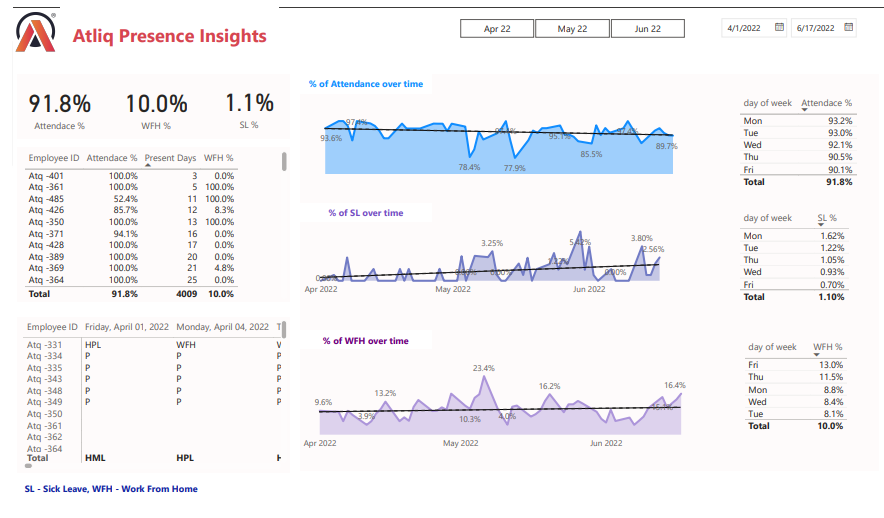

The page's visual inventory and layout, read from the dashboard file:
{"tool":"powerbi","page":{"name":"Presence Insights","canvas":[1280,720],"ordinal":0},"visuals":[{"type":"textbox","box":[7.8,205.6,399.9,225.5],"z":0},{"type":"textbox","box":[7.8,453.3,399.8,227.6],"z":1000},{"type":"textbox","box":[422.3,97.9,848.1,582.3],"z":2000},{"type":"textbox","box":[7.8,98,399.9,95.4],"z":3000},{"type":"tableEx","fields":{"Values":["Final Data.Employee ID","Measures (2).Attendace %","Measures (2).Present Days","Measures (2).WFH %"]},"box":[12.6,205.2,394.9,225.7],"z":4000},{"type":"slicer","fields":{"Values":["Final Data.Date"]},"box":[1027.3,5.2,252.7,46.3],"z":5000},{"type":"slicer","fields":{"Values":["Final Data.MMM YY"]},"box":[630.4,10.5,379.5,35.8],"z":6000},{"type":"areaChart","fields":{"Category":["Final Data.MMM YY","Final Data.Date"],"Y":["Measures (2).WFH %"]},"box":[420.7,502.3,589,153.5],"z":7000},{"type":"areaChart","fields":{"Category":["Final Data.WeekNo","Final Data.Date"],"Y":["Measures (2).Attendace %"]},"box":[444.1,144.9,540.4,103.2],"z":8000},{"type":"card","fields":{"Values":["Measures (2).Attendace %"]},"box":[7.8,98,124,96.3],"z":9000},{"type":"card","fields":{"Values":["Measures (2).WFH %"]},"box":[141.4,98,138.8,96.3],"z":10000},{"type":"areaChart","fields":{"Category":["Final Data.MMM YY","Final Data.Date"],"Y":["Measures (2).SL %"]},"box":[422.5,307.1,556,124],"z":11000},{"type":"image","box":[0,0,70,71],"z":12000},{"type":"card","fields":{"Values":["Measures (2).SL %"]},"box":[286.3,97.2,121.4,96.3],"z":13000},{"type":"textbox","box":[70.3,0,320.1,71.1],"z":14000},{"type":"textbox","box":[422.4,98.2,192.5,27.5],"z":15000},{"type":"textbox","box":[422.5,286.3,192.6,26.9],"z":16000},{"type":"textbox","box":[422.1,473.7,192.6,27.2],"z":17000},{"type":"pivotTable","fields":{"Rows":["Final Data.Employee ID"],"Columns":["Final Data.Date"],"Values":["Min(Final Data.Value)"]},"box":[11.7,453.3,395.9,227.6],"z":18000},{"type":"textbox","box":[13.6,691.6,289.8,28.2],"z":19000},{"type":"tableEx","fields":{"Values":["Final Data.day of week","Measures (2).Attendace %"]},"box":[1060.9,125.8,209.9,145.7],"z":20000},{"type":"tableEx","fields":{"Values":["Final Data.day of week","Measures (2).SL %"]},"box":[1060.9,294.1,191.7,167.4],"z":21000},{"type":"tableEx","fields":{"Values":["Final Data.day of week","Measures (2).WFH %"]},"box":[1068.7,483.2,170,167.4],"z":22000}]}

Visuals, with their boxes on the page's 1280x720 design canvas (x1, y1, x2, y2). These are canvas units, not pixel positions in the 884x518 screenshot, which may show the page scaled, cropped or inside an application window:
textbox: <region>8, 206, 408, 431</region>
textbox: <region>8, 453, 408, 681</region>
textbox: <region>422, 98, 1270, 680</region>
textbox: <region>8, 98, 408, 193</region>
tableEx - Final Data.Employee ID x Measures (2).Attendace %: <region>13, 205, 408, 431</region>
slicer - Final Data.Date: <region>1027, 5, 1280, 52</region>
slicer - Final Data.MMM YY: <region>630, 10, 1010, 46</region>
areaChart - Final Data.MMM YY x Final Data.Date: <region>421, 502, 1010, 656</region>
areaChart - Final Data.WeekNo x Final Data.Date: <region>444, 145, 984, 248</region>
card - Measures (2).Attendace %: <region>8, 98, 132, 194</region>
card - Measures (2).WFH %: <region>141, 98, 280, 194</region>
areaChart - Final Data.MMM YY x Final Data.Date: <region>422, 307, 978, 431</region>
image: <region>0, 0, 70, 71</region>
card - Measures (2).SL %: <region>286, 97, 408, 194</region>
textbox: <region>70, 0, 390, 71</region>
textbox: <region>422, 98, 615, 126</region>
textbox: <region>422, 286, 615, 313</region>
textbox: <region>422, 474, 615, 501</region>
pivotTable - Final Data.Employee ID x Final Data.Date: <region>12, 453, 408, 681</region>
textbox: <region>14, 692, 303, 720</region>
tableEx - Final Data.day of week x Measures (2).Attendace %: <region>1061, 126, 1271, 272</region>
tableEx - Final Data.day of week x Measures (2).SL %: <region>1061, 294, 1253, 462</region>
tableEx - Final Data.day of week x Measures (2).WFH %: <region>1069, 483, 1239, 651</region>
